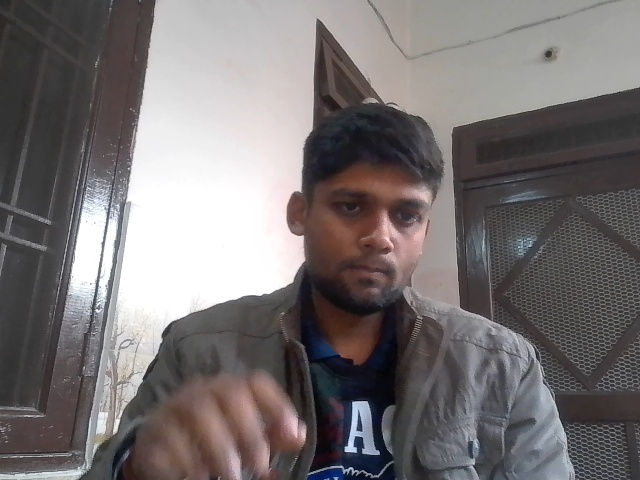Hello: (143, 353, 330, 480)
